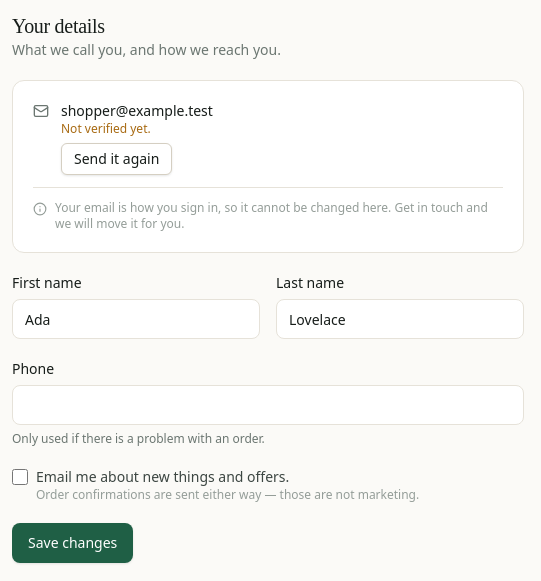
Test: ProfilePage › offers verification only when it is needed, and says only what it can
This screenshot has width=541, height=581.
Click the button "Send it again" at {"x": 117, "y": 159}, box [61,143,172,175]
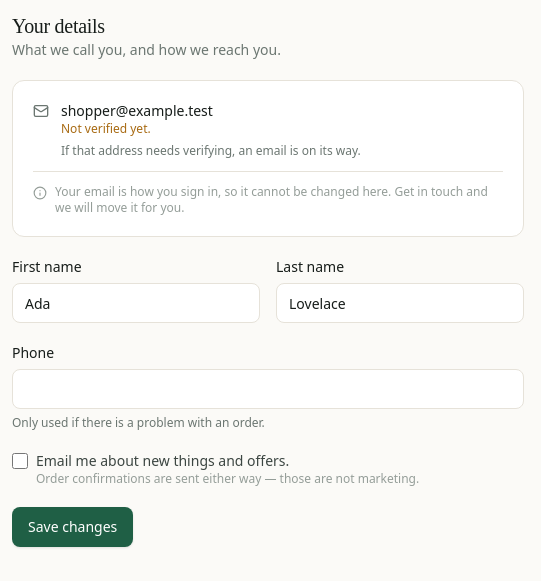
Now the text "If that address needs verifying, an email is on its way." is shown, box [61,143,361,159]
